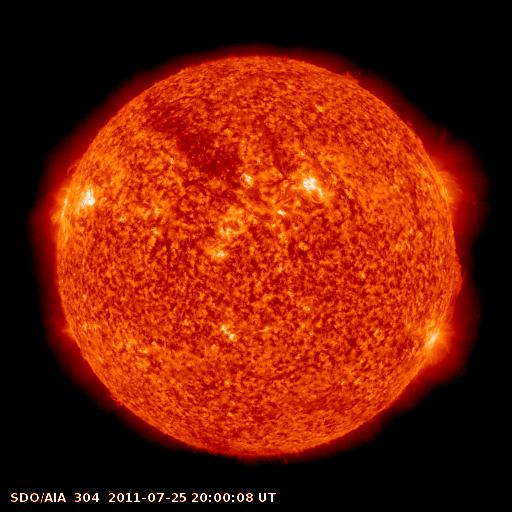prominence: (440, 253, 471, 321)
